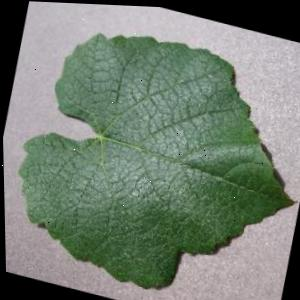Folha: (0, 4, 300, 300)
